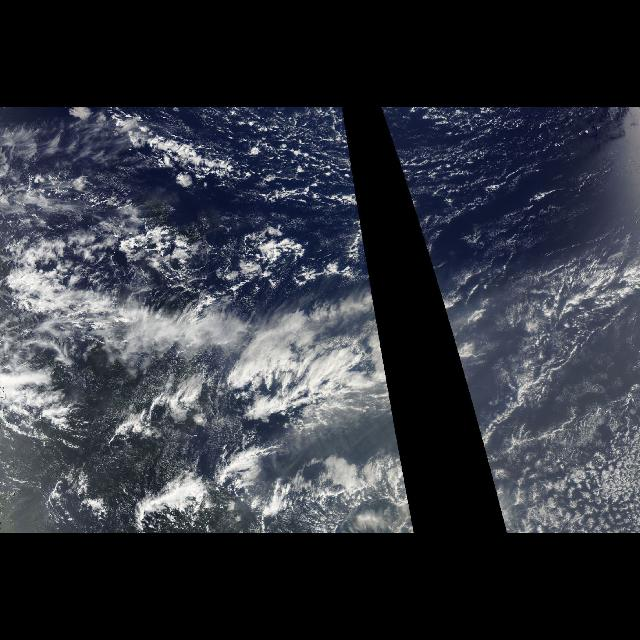Fish: (6, 263, 410, 527)
Gravel: (12, 110, 372, 308), (380, 110, 600, 236)
Sugar: (409, 112, 639, 310)
